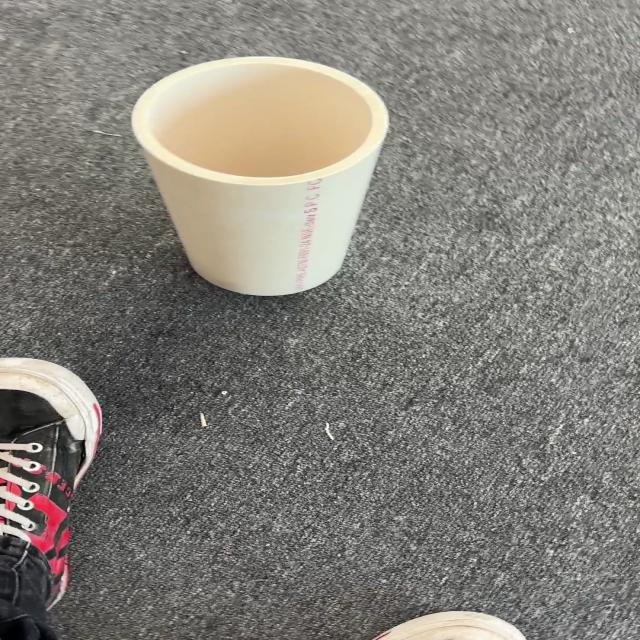Coral: (128, 55, 390, 297)
